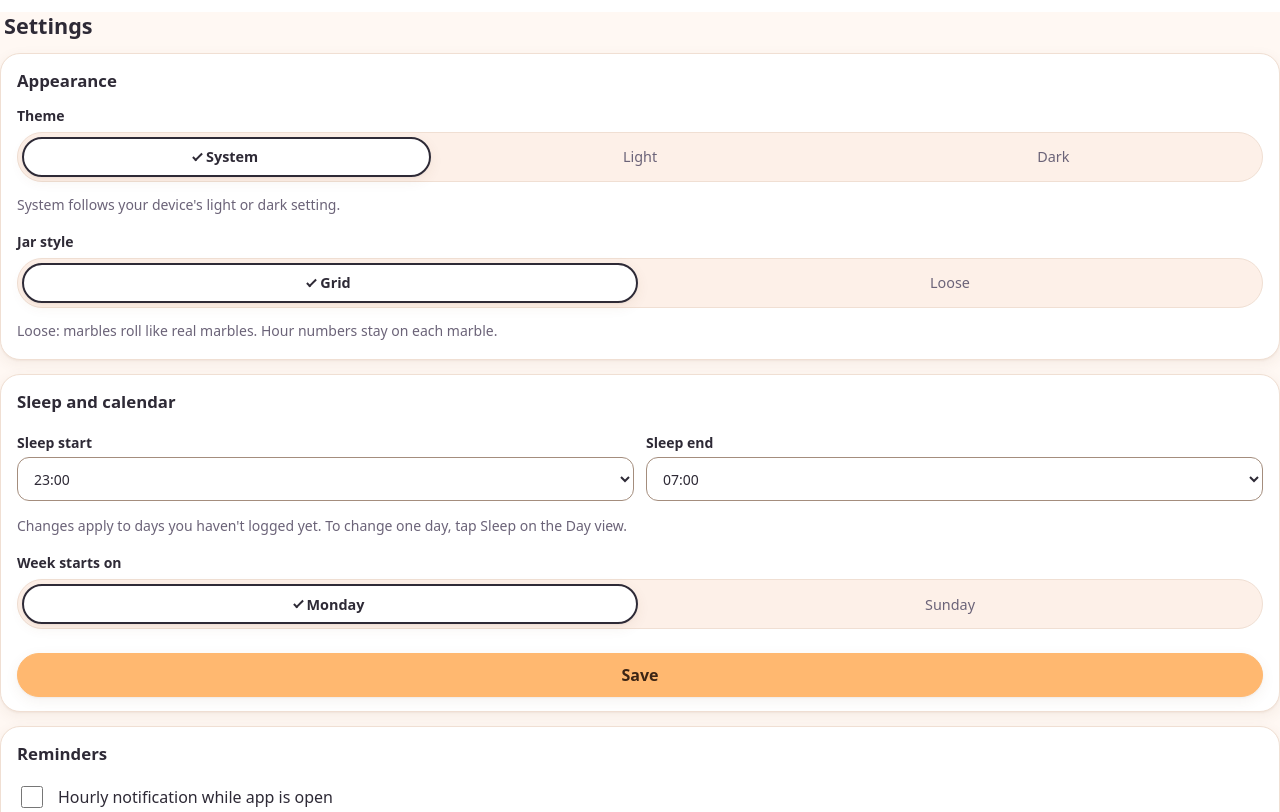
Test case: SettingsView › reverts and toasts when saving the theme fails
This screenshot has width=1280, height=812.
What coordinates should you click on to do the following:
click the radio button labelled "Dark"
I would click on:
 (1053, 157)
Its box is [1037,147,1069,166].
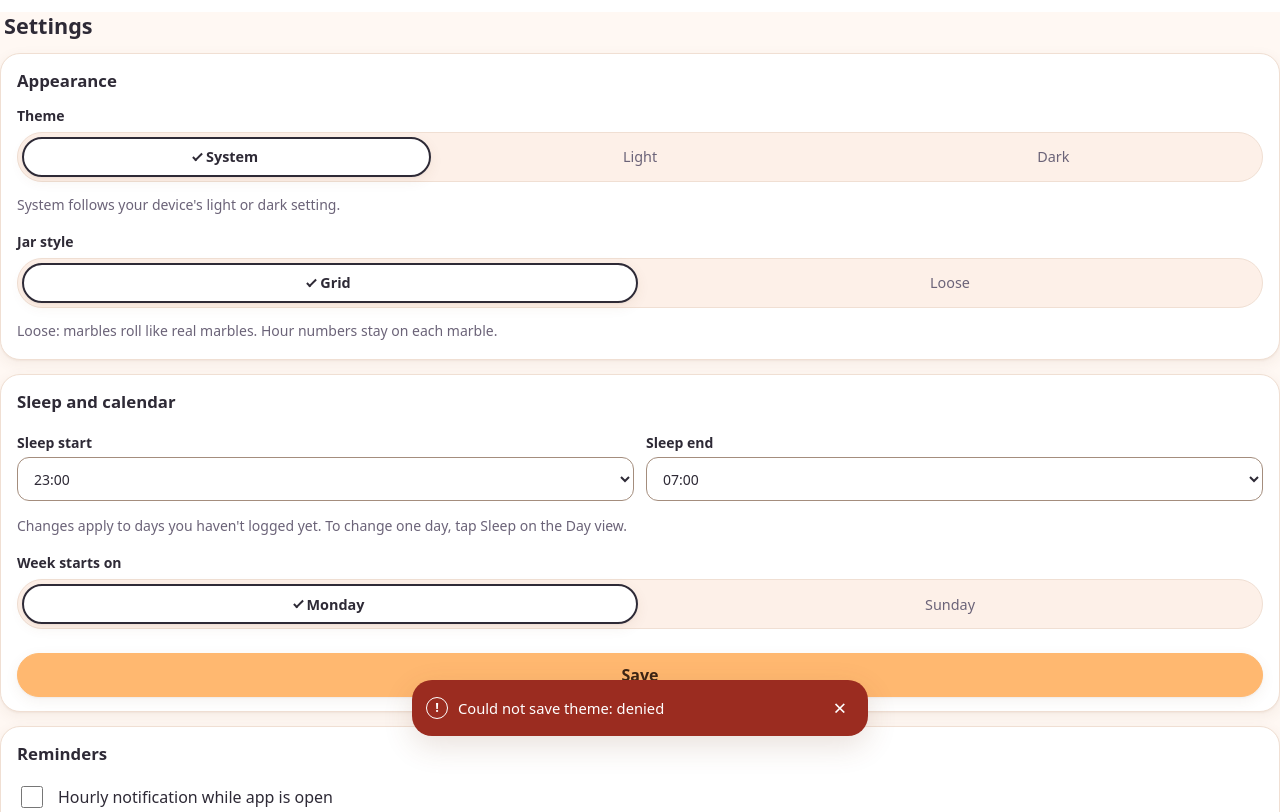
Expected: the radio button labelled "System" is checked, [22,137,431,177]
Now the message shows "denied", box [458,698,664,718]
